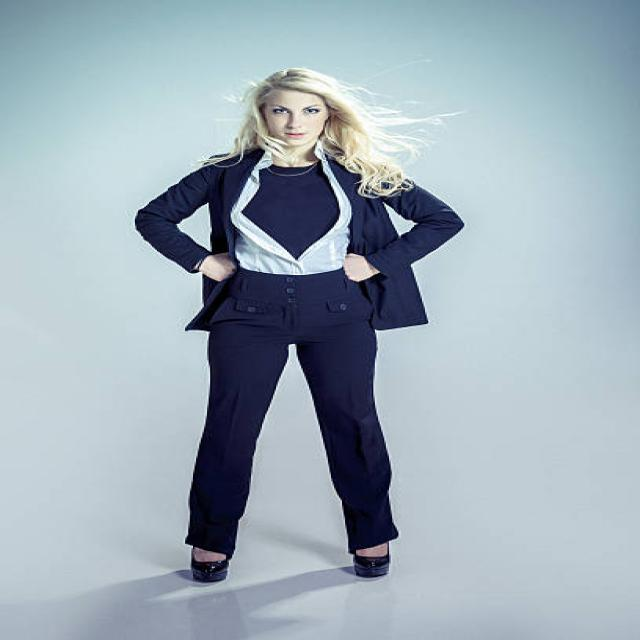Edited images: (119, 60, 485, 592)
